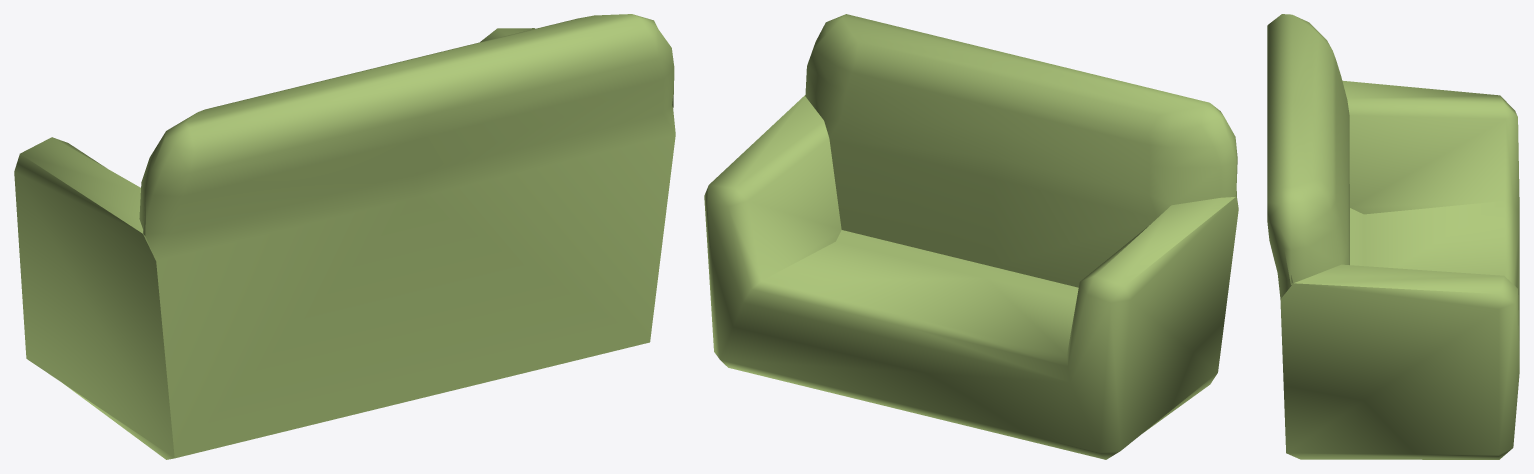
The model's file is ソファー１.fbx.
The picture shows the model from 3 angles, left to right: view 1: azimuth 30°, elevation 25°; view 2: azimuth 150°, elevation 25°; view 3: azimuth 270°, elevation 25°; orthographic projection. The views are drawn at different scales.
Parts seen in each view (by area): view 1: ソファ; view 2: ソファ; view 3: ソファ.
Part boxes in pixels (<box>): ソファ: <box>14,14,675,459</box>; ソファ: <box>704,14,1238,459</box>; ソファ: <box>1267,14,1519,459</box>.
Bounding box in the file's own units: 19.11 × 11.7 × 9.97.
